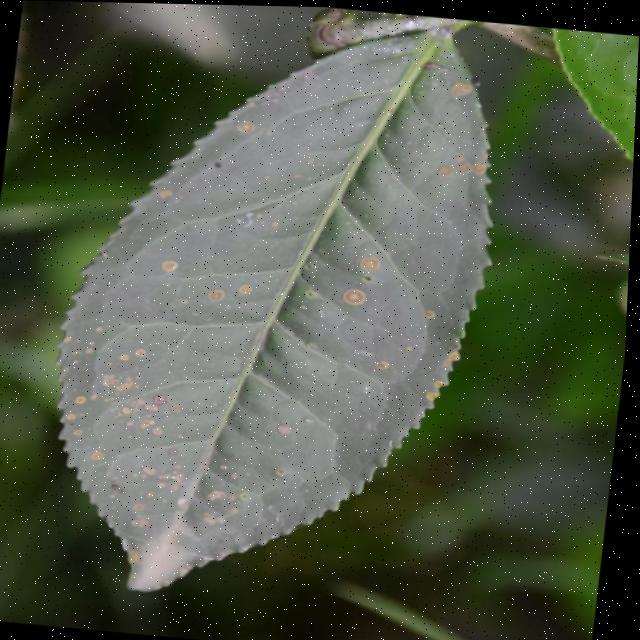Tea algae leaf spot: (49, 45, 488, 597)
